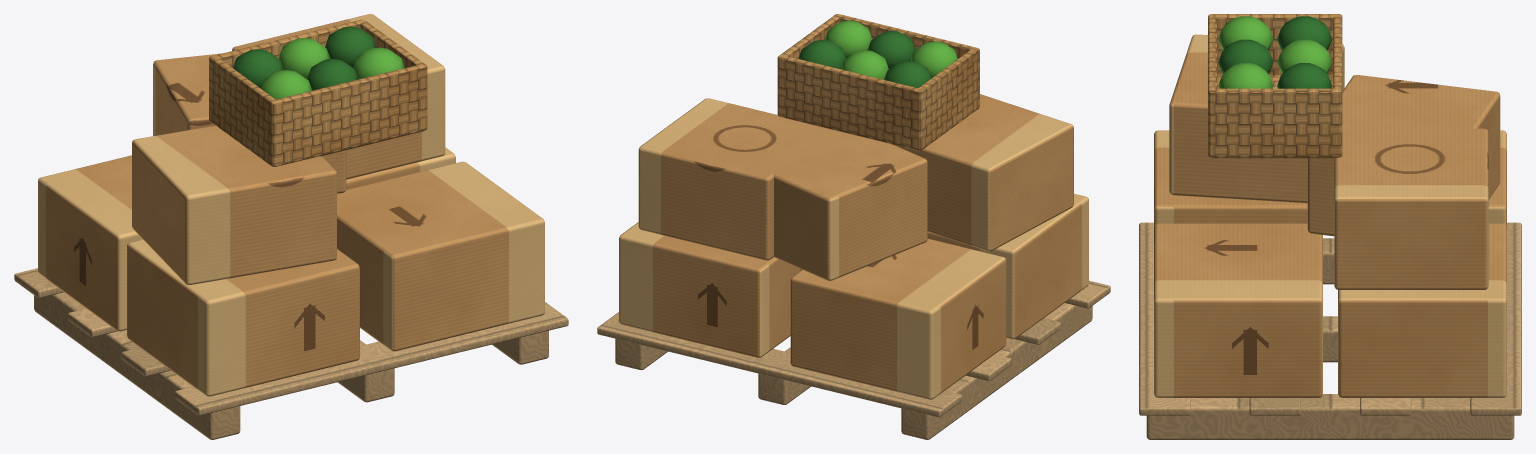
Rendered from staff-pallet.fbx.
The picture shows the model from 3 angles, left to right: view 1: azimuth 30°, elevation 25°; view 2: azimuth 150°, elevation 25°; view 3: azimuth 270°, elevation 25°; orthographic projection. The views are drawn at different scales.
Parts seen in each view (by area): view 1: Body; view 2: Body; view 3: Body.
Part boxes in pixels (left/top/right/bottom): Body: left=14, top=14, right=568, bottom=439; Body: left=597, top=14, right=1110, bottom=439; Body: left=1139, top=14, right=1521, bottom=439.
Bounding box in the file's own units: 1.2 × 0.94 × 1.04.
